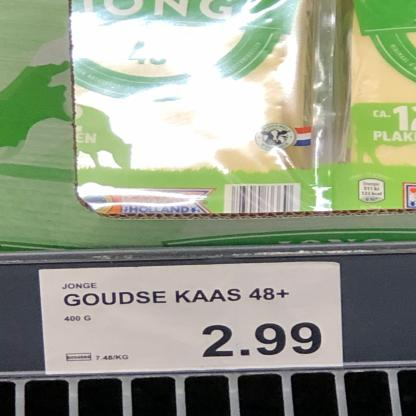prtg: (40, 261, 345, 376)
